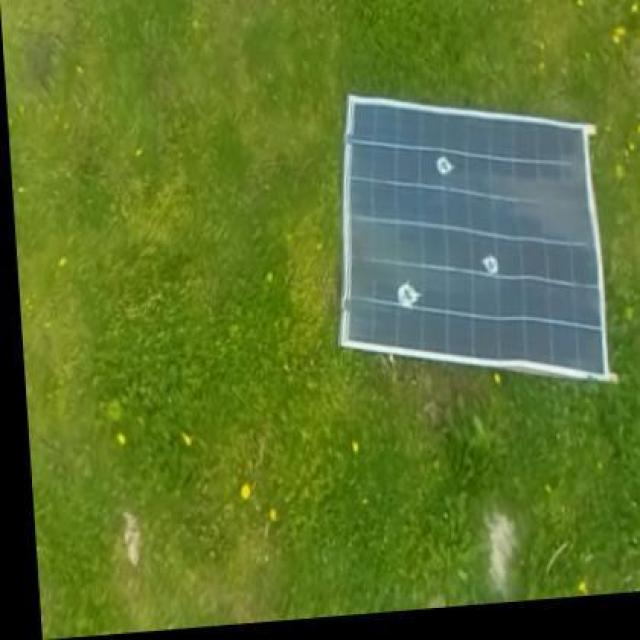soiled: (338, 92, 611, 380)
